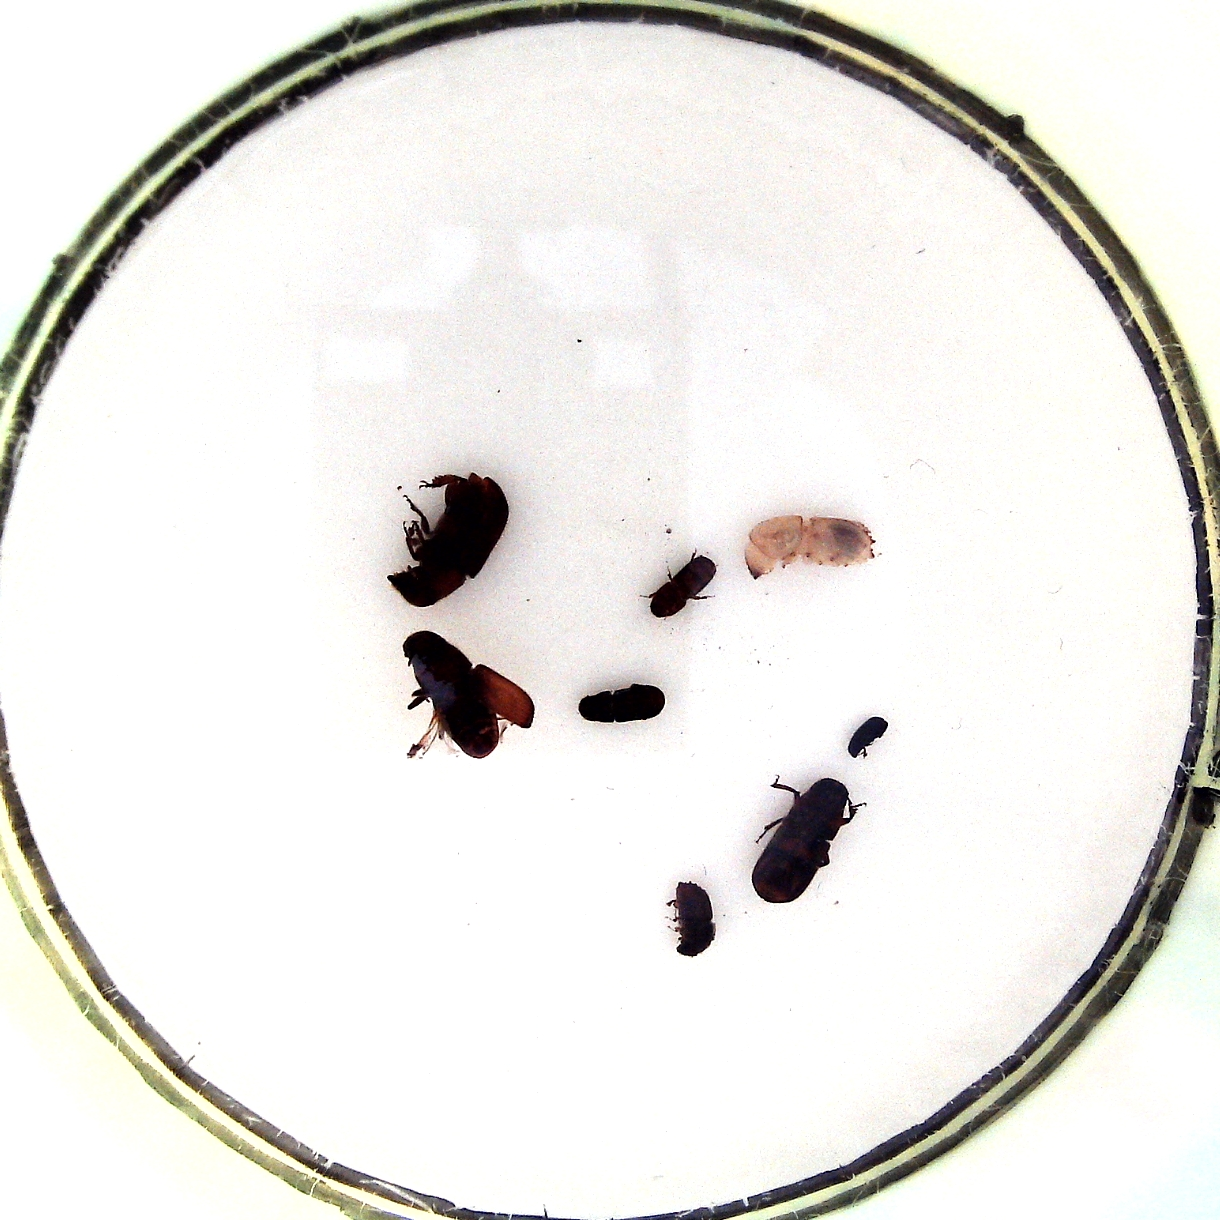Boerner: (738, 509, 881, 579)
Leconte: (398, 626, 537, 760), (383, 469, 511, 608), (750, 770, 866, 905)
Linnaeus: (666, 875, 719, 959)
acuminatus: (645, 551, 717, 619)
armandi: (575, 680, 670, 726)
coleoptera: (847, 711, 892, 762)
